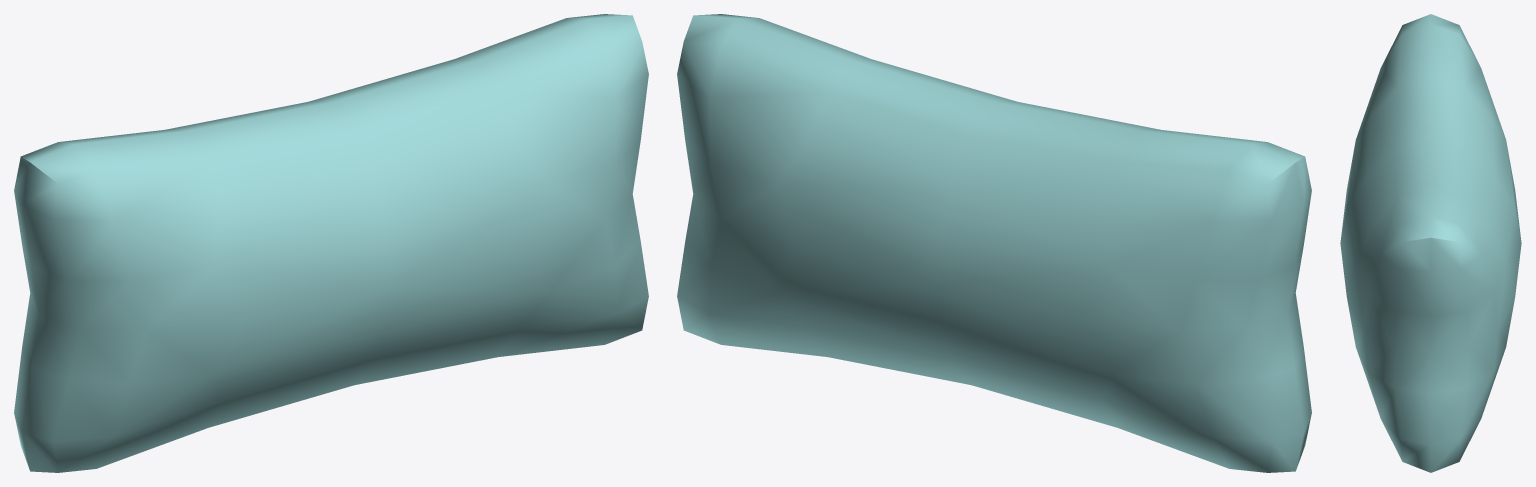
Rendered from itch_tiny_pleasant_picnic_pillow_small_blue.glb.
3 renders of one model, left to right at view 1: azimuth 30°, elevation 25°; view 2: azimuth 150°, elevation 25°; view 3: azimuth 270°, elevation 25°, orthographic. The views are drawn at different scales.
Visible parts, largest first — view 1: pillow_small_blue; view 2: pillow_small_blue; view 3: pillow_small_blue.
Part boxes in pixels (x1,y1,x2,y2): pillow_small_blue: (14, 14, 648, 472); pillow_small_blue: (677, 14, 1311, 472); pillow_small_blue: (1340, 14, 1521, 472).
Size of the model in its own units: 0.96 by 0.48 by 0.32.
